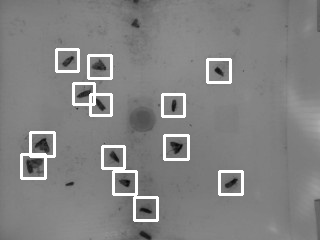insect: (24, 157, 45, 176), (33, 136, 51, 154), (167, 138, 185, 155), (89, 57, 107, 71), (60, 53, 75, 68), (94, 95, 107, 112), (222, 176, 239, 189), (108, 149, 122, 164), (75, 88, 93, 99), (213, 64, 226, 77), (116, 177, 131, 188), (138, 229, 153, 240), (129, 17, 141, 29), (137, 205, 153, 214), (170, 97, 177, 113), (63, 179, 75, 187)
